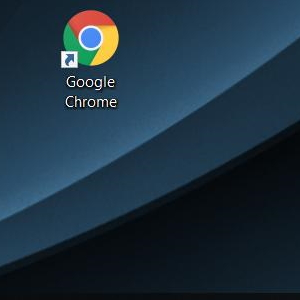chrome: (60, 10, 119, 68)
